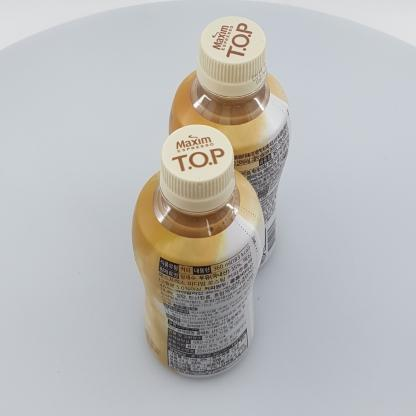--------TOP-----------: (132, 124, 264, 378), (166, 16, 291, 269)
